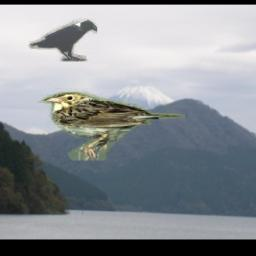Crow: (28, 19, 97, 62)
Sparrow: (37, 89, 185, 161)
